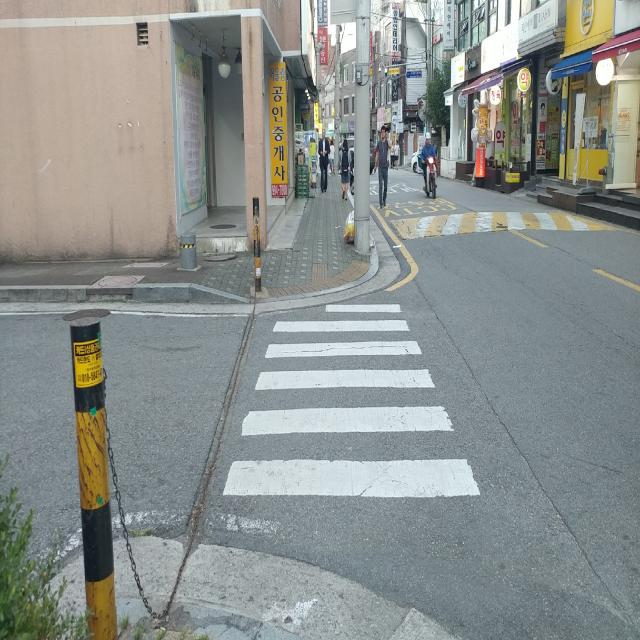횡단보도: (221, 301, 483, 500)
